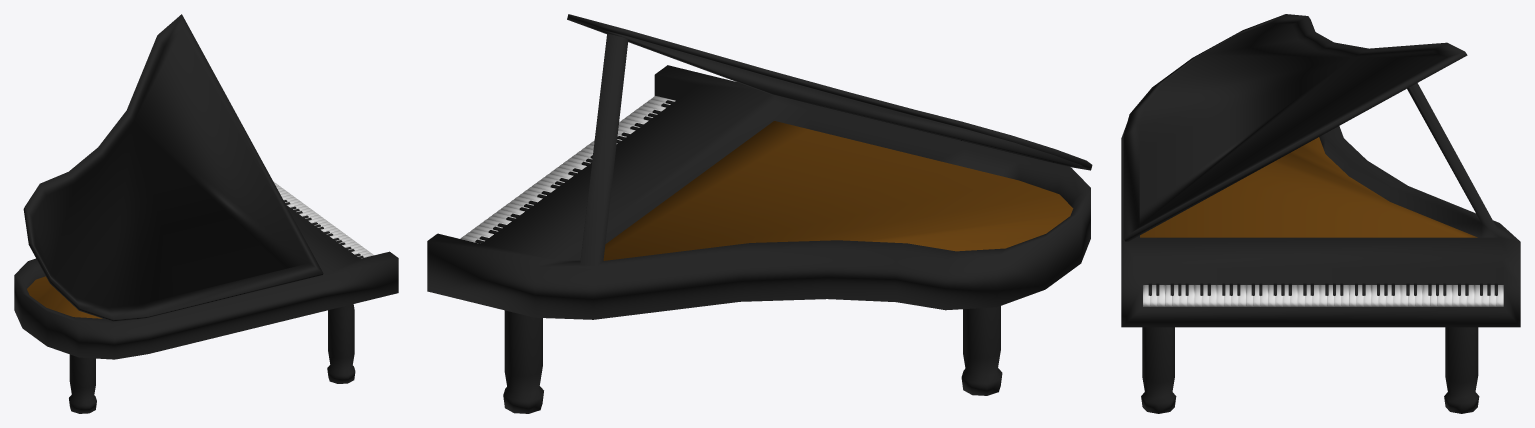
File: piano.fbx
The picture shows the model from 3 angles, left to right: view 1: azimuth 30°, elevation 25°; view 2: azimuth 150°, elevation 25°; view 3: azimuth 270°, elevation 25°; orthographic projection. The views are drawn at different scales.
Visible parts, largest first — view 1: Plane; view 2: Plane; view 3: Plane.
Part boxes in pixels (box(x1,y1,x2,y2)): Plane: box(14, 14, 398, 413); Plane: box(427, 14, 1092, 413); Plane: box(1121, 14, 1520, 413).
Size of the model in its own units: 867 by 727 by 782.
